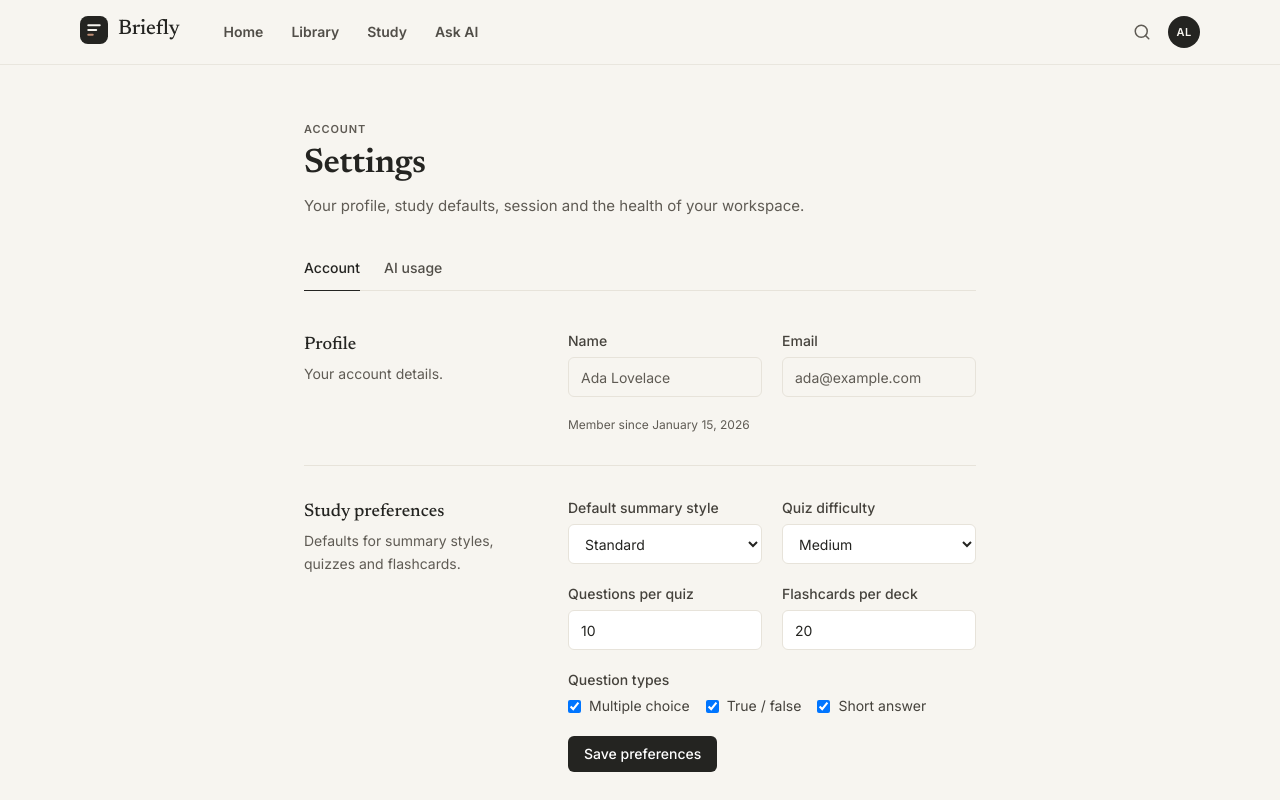
Test: Study preferences › loads and saves defaults in Settings
The width and height of the screenshot is (1280, 800).
Select "Exam revision" in the dropdown labelled "Default summary style": (665,544) x1=568 y1=524 x2=762 y2=564
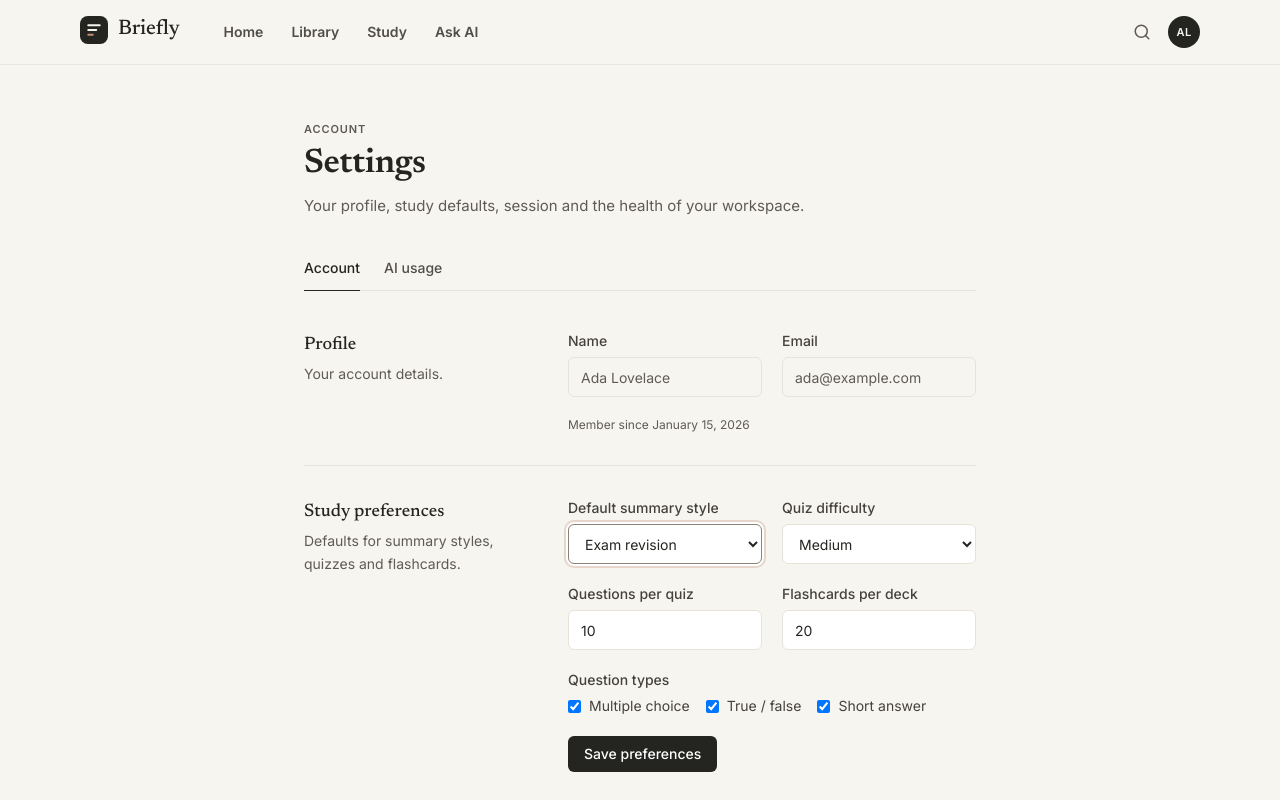
Select "Hard" in the dropdown labelled "Quiz difficulty": (879,544) x1=782 y1=524 x2=976 y2=564
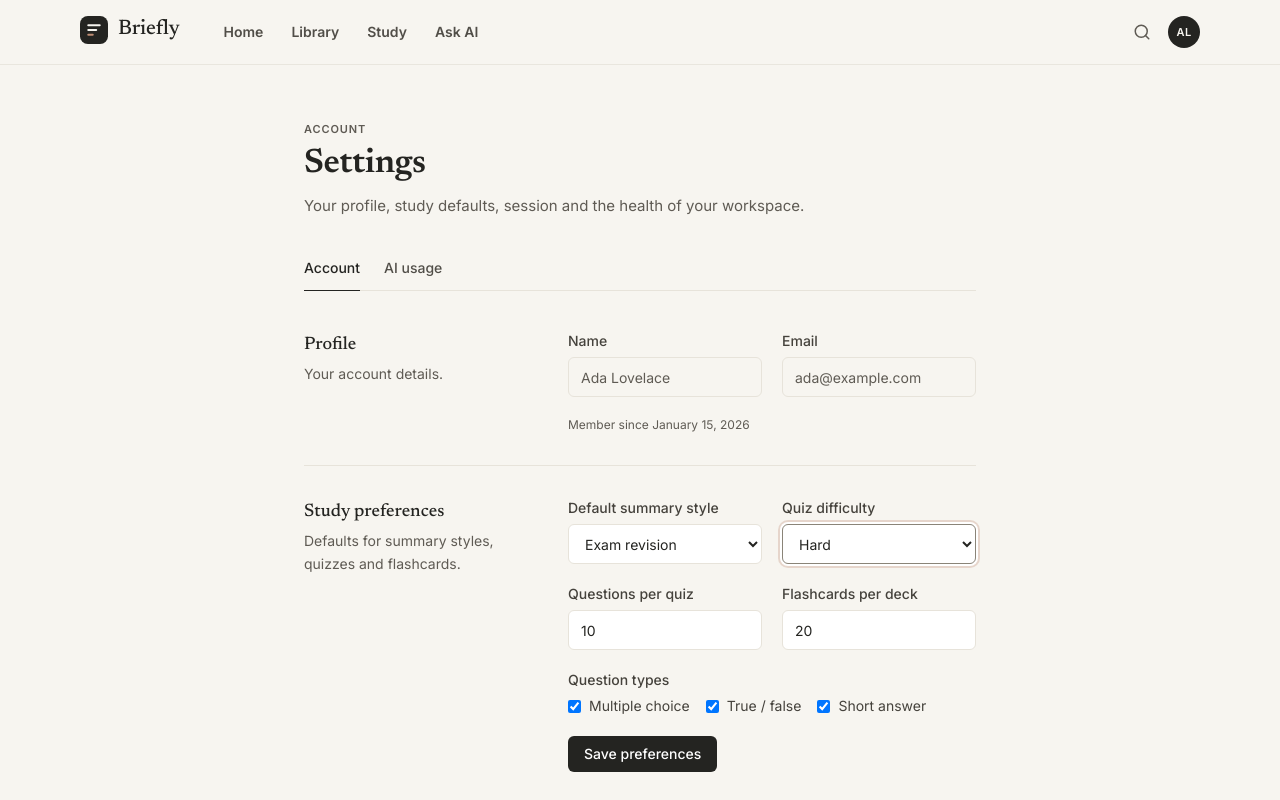
Click the checkbox labelled "True / false": (712,706) x1=706 y1=700 x2=719 y2=713
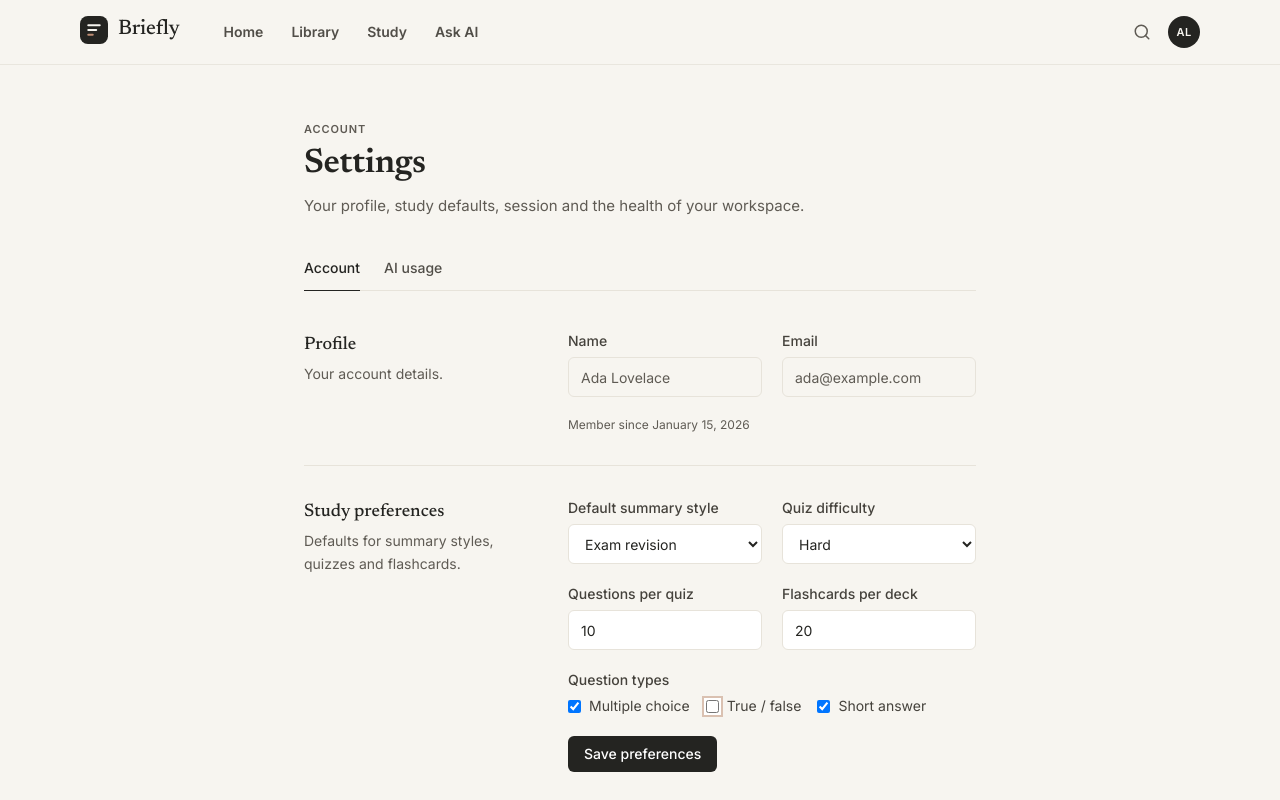
Click the button "Save preferences": (643,754) x1=568 y1=736 x2=717 y2=772
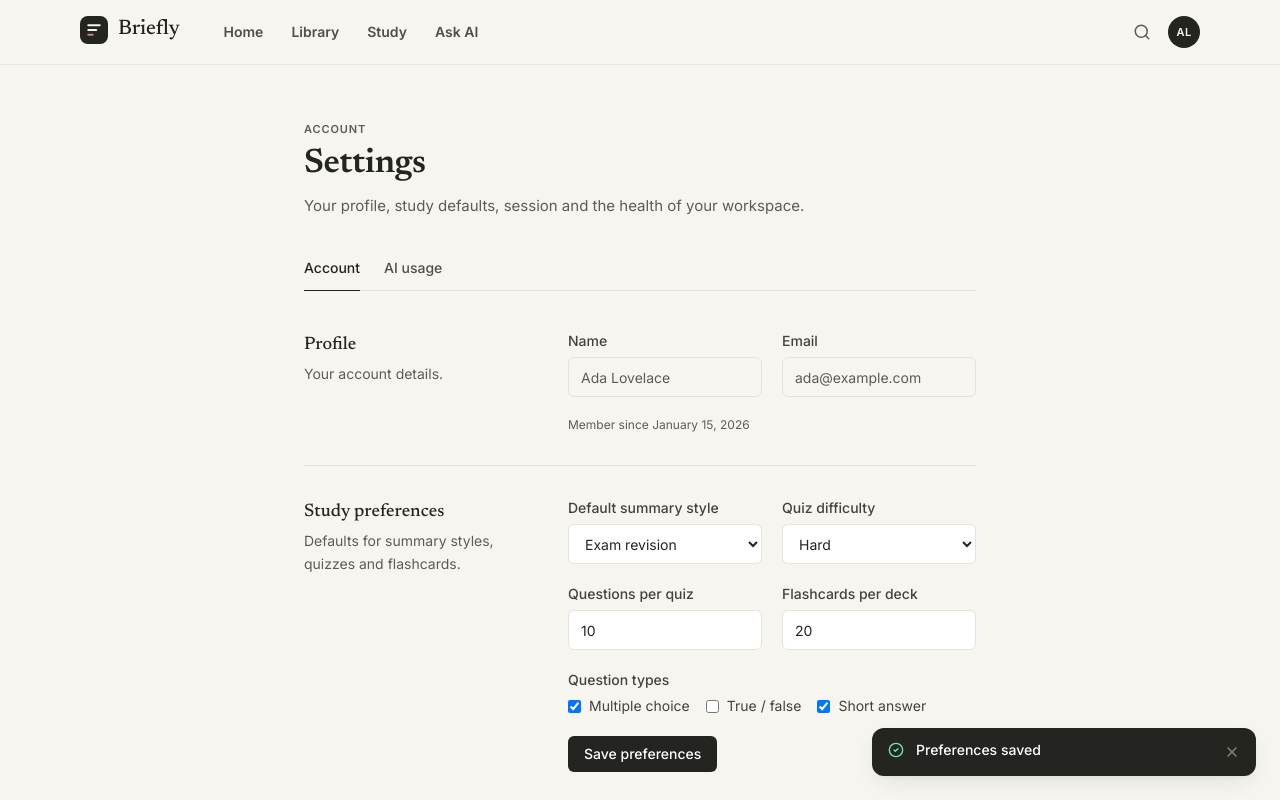
Now the text "Preferences saved" is shown, box x1=916 y1=741 x2=1041 y2=758
